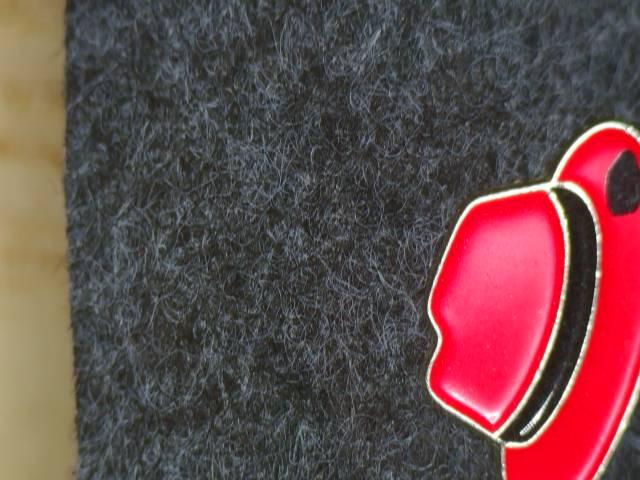Red-Hat: (381, 75, 640, 480)
Scratch: (587, 137, 640, 235)
